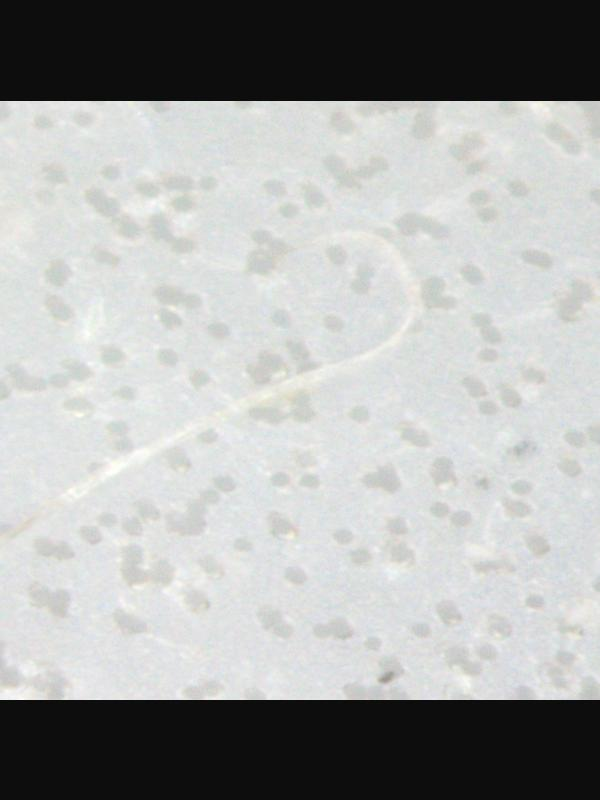microplastic: (0, 100, 600, 699), (0, 223, 426, 544)
